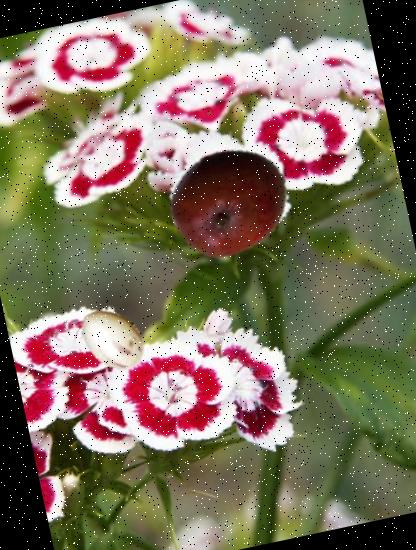Mango: (158, 130, 302, 274)
Pepino: (71, 296, 156, 382)
